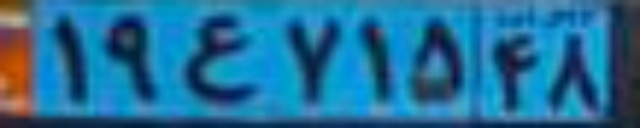1: (356, 17, 393, 105), (53, 17, 87, 104)
4: (490, 32, 540, 113)
5: (404, 16, 464, 106)
7: (288, 15, 337, 104)
8: (544, 31, 607, 113)
9: (100, 15, 157, 99)
ain: (177, 14, 256, 100)
